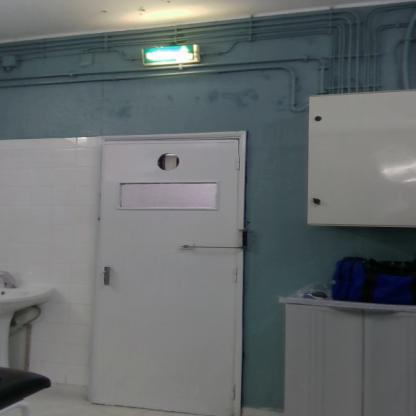door: (99, 142, 238, 416), (102, 270, 109, 274)
hinged: (233, 264, 238, 284), (231, 383, 236, 400), (235, 154, 240, 170)
